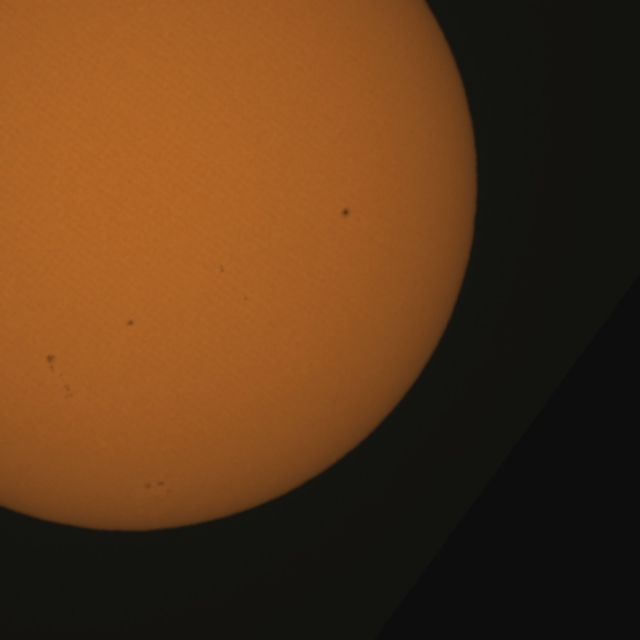sunspot: (46, 353, 71, 392), (44, 352, 60, 377), (142, 479, 170, 493), (62, 382, 74, 400), (340, 206, 351, 219), (125, 318, 136, 328), (218, 264, 226, 275), (242, 294, 250, 303)
